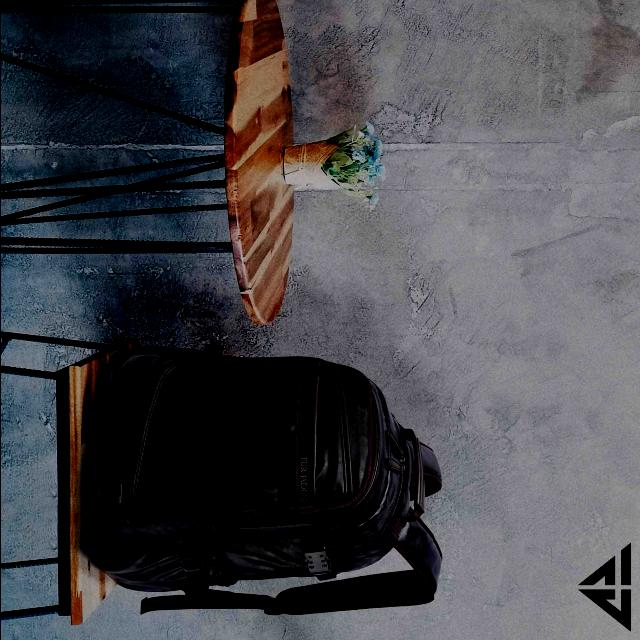backpack: (82, 345, 444, 617)
